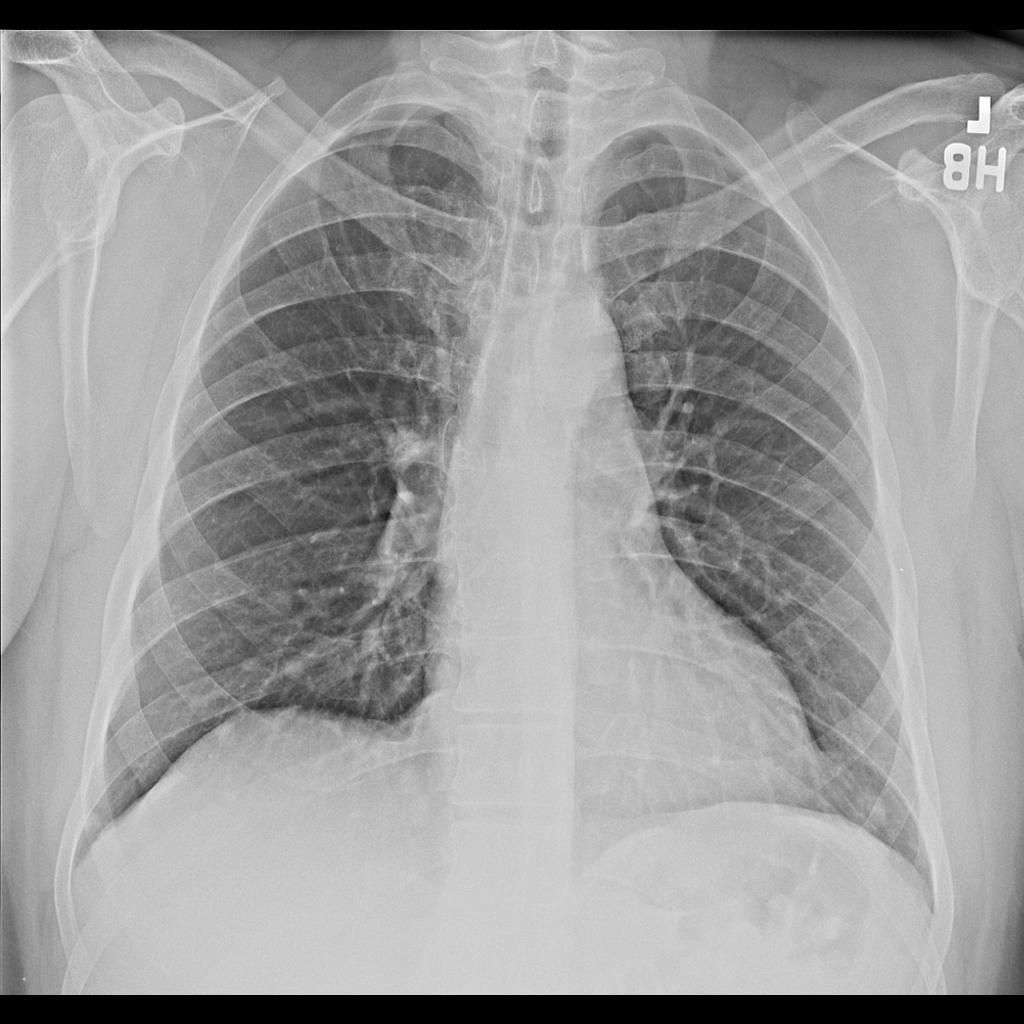Nodule: (841, 782, 891, 837)
